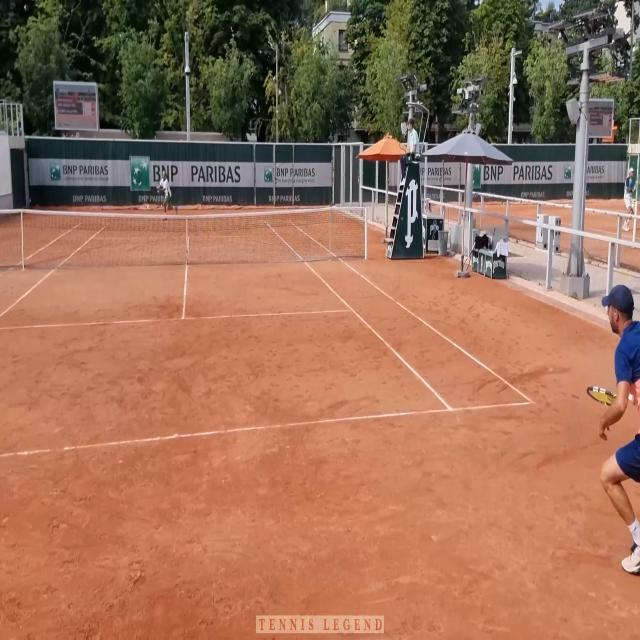ball: (147, 205, 149, 209), (160, 205, 162, 208)
